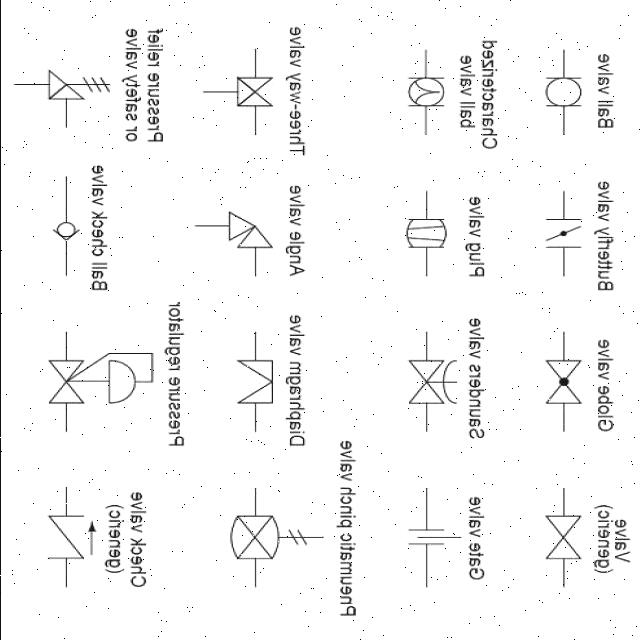3 Way Gate Valve: (223, 66, 280, 120)
Angle Valve: (208, 202, 282, 266)
Ball Valve: (542, 67, 592, 123)
Butterfly Valve: (532, 202, 588, 278)
Check Valve: (36, 503, 99, 566)
Diaphragm Valve: (225, 331, 287, 426)
Gate Valve: (526, 503, 586, 568)
Globe Valve: (535, 342, 583, 416)
Orifice: (403, 518, 462, 566)
PSV: (14, 64, 110, 124)
Pressure Regulator: (44, 344, 164, 410)
